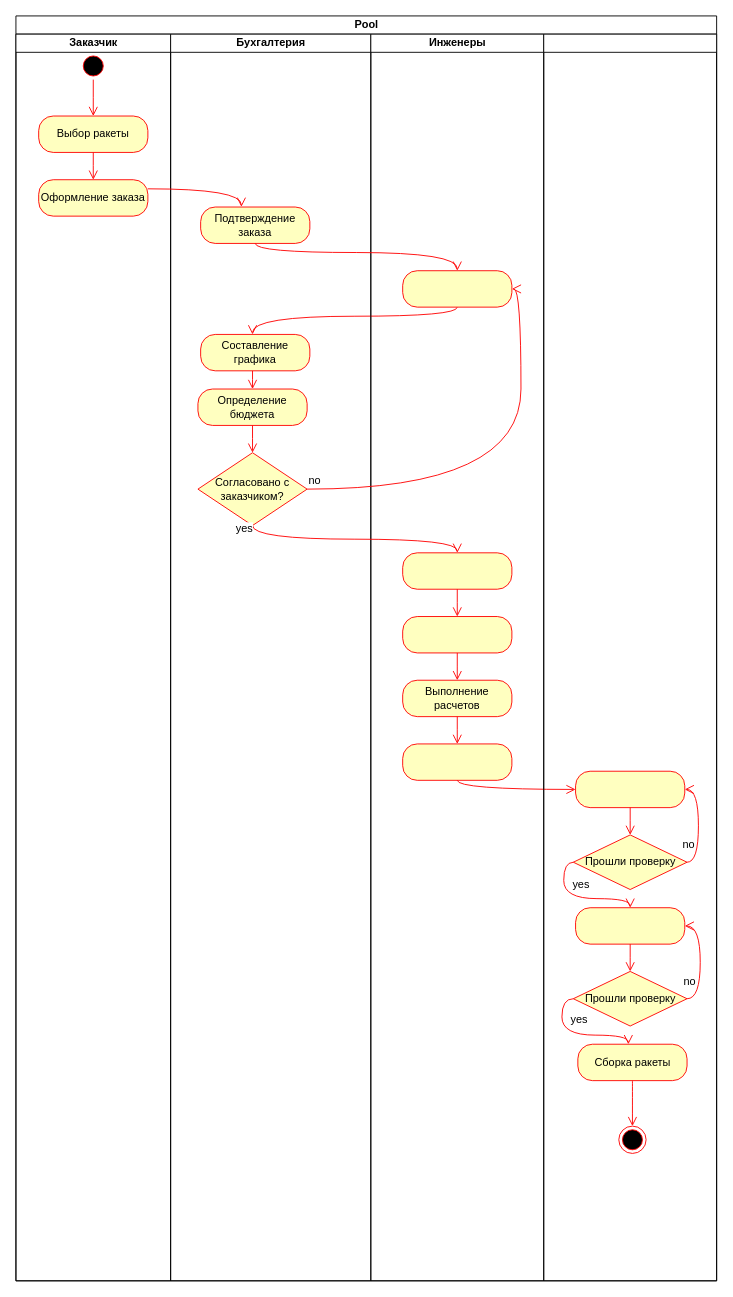
The diagram is 733 pixels wide and 1297 high, and some of its shapes have lost their labels. Each missing label, with the box of its shape:
Определение технического облика ракеты: (402, 616, 512, 653)
Определение целей и требований: (402, 552, 512, 589)
Производственный цех: (543, 33, 717, 1281)
Производство комплектующих: (575, 770, 685, 808)
Производство систем: (575, 907, 685, 944)
Создание чертежей: (402, 743, 512, 780)
Формирование состава работ: (402, 270, 512, 307)
